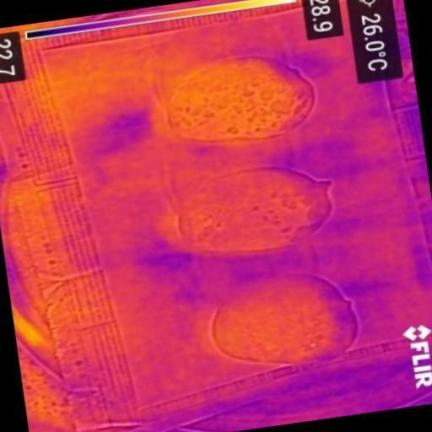mango: (211, 274, 357, 363), (178, 167, 330, 252), (167, 58, 314, 141)
